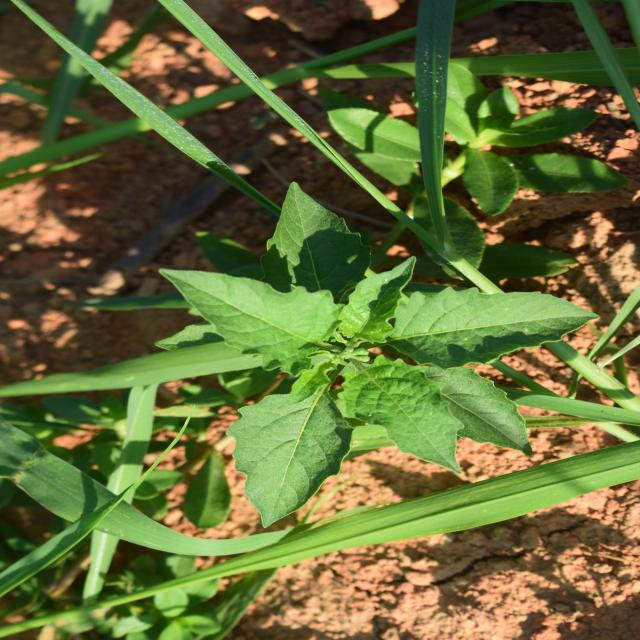Black_nightshade: (137, 196, 429, 546)
